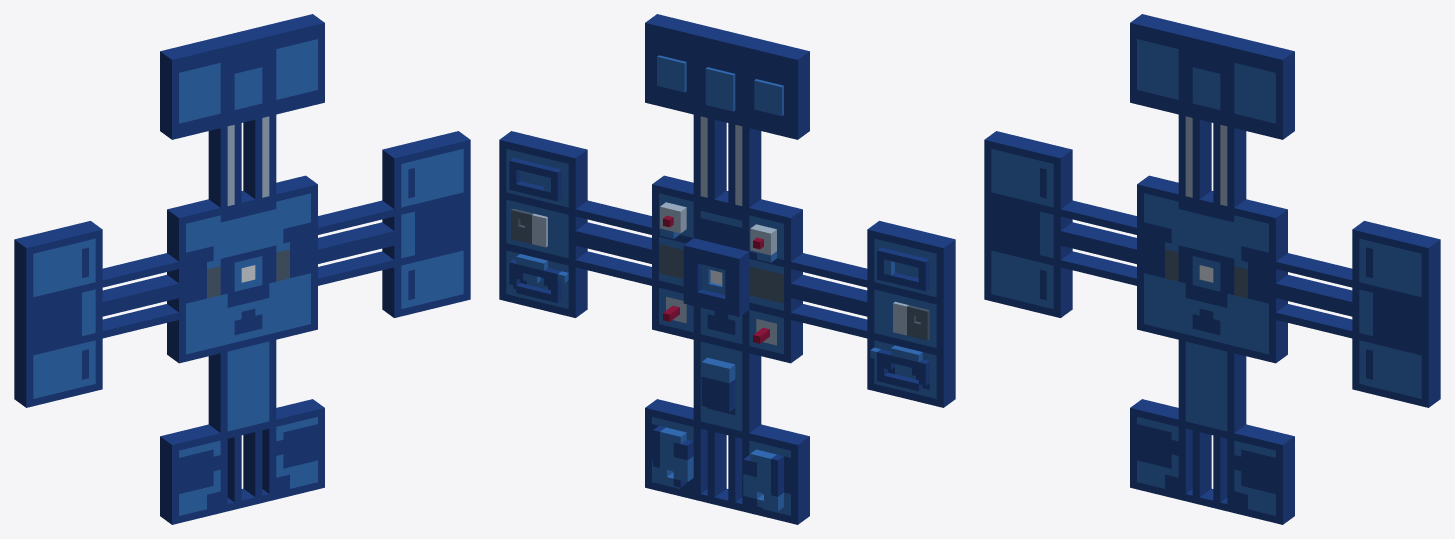
The model's file is Station.fbx.
The picture shows the model from 3 angles, left to right: view 1: azimuth 30°, elevation 25°; view 2: azimuth 150°, elevation 25°; view 3: azimuth 330°, elevation 25°; orthographic projection.
Visible parts, largest first — view 1: generated; view 2: generated; view 3: generated.
Boxes of the visible parts, x1,y1,x2,y2 form: generated: (14,14,470,524); generated: (499,14,955,524); generated: (984,14,1440,524).
Size of the model in its own units: 640 by 640 by 55.
